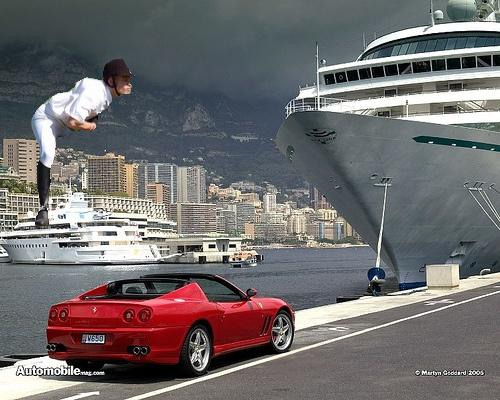tampered: (32, 60, 136, 226)
